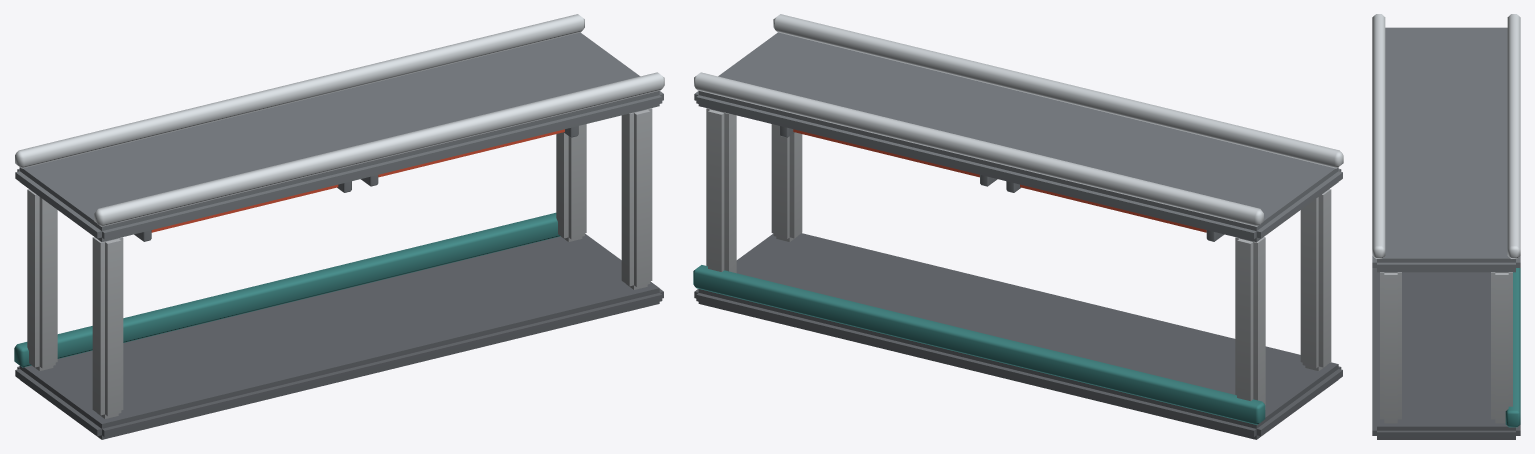
Rendered from SM_PassShelf_HeatLamp_15.glb.
3 renders of one model, left to right at view 1: azimuth 30°, elevation 25°; view 2: azimuth 150°, elevation 25°; view 3: azimuth 270°, elevation 25°, orthographic. The views are drawn at different scales.
Parts seen in each view (by area): view 1: SM_PassShelf_HeatLamp_15; view 2: SM_PassShelf_HeatLamp_15; view 3: SM_PassShelf_HeatLamp_15.
Boxes of the visible parts, bbox=[...] form: SM_PassShelf_HeatLamp_15: bbox=[14, 14, 664, 439]; SM_PassShelf_HeatLamp_15: bbox=[693, 14, 1343, 439]; SM_PassShelf_HeatLamp_15: bbox=[1372, 14, 1520, 439].
Size of the model in its own units: 1.5 by 0.58 by 0.4.
1 material, 1 textured.
